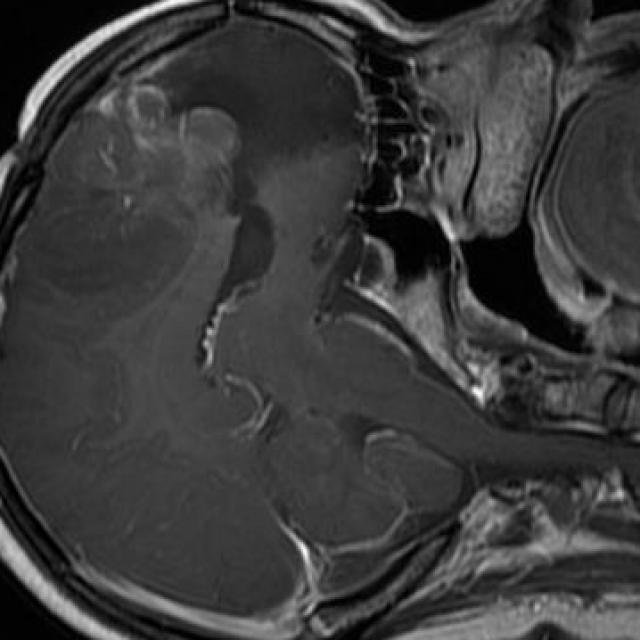glioma: (53, 29, 358, 373)
